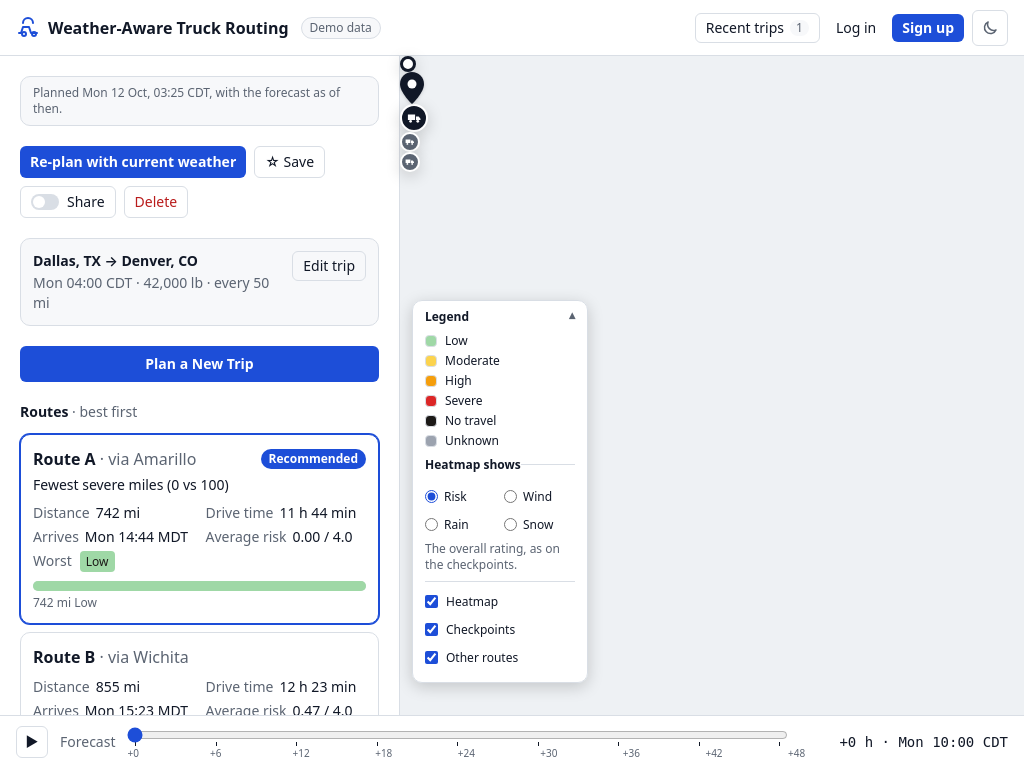
trip actions › deletes after asking, then takes a guest to {"user":null,"guest":true,"recent_trip_count":1}
The width and height of the screenshot is (1024, 768).
Click the button "Delete". click: (156, 202)
box: 124,186 -> 188,218
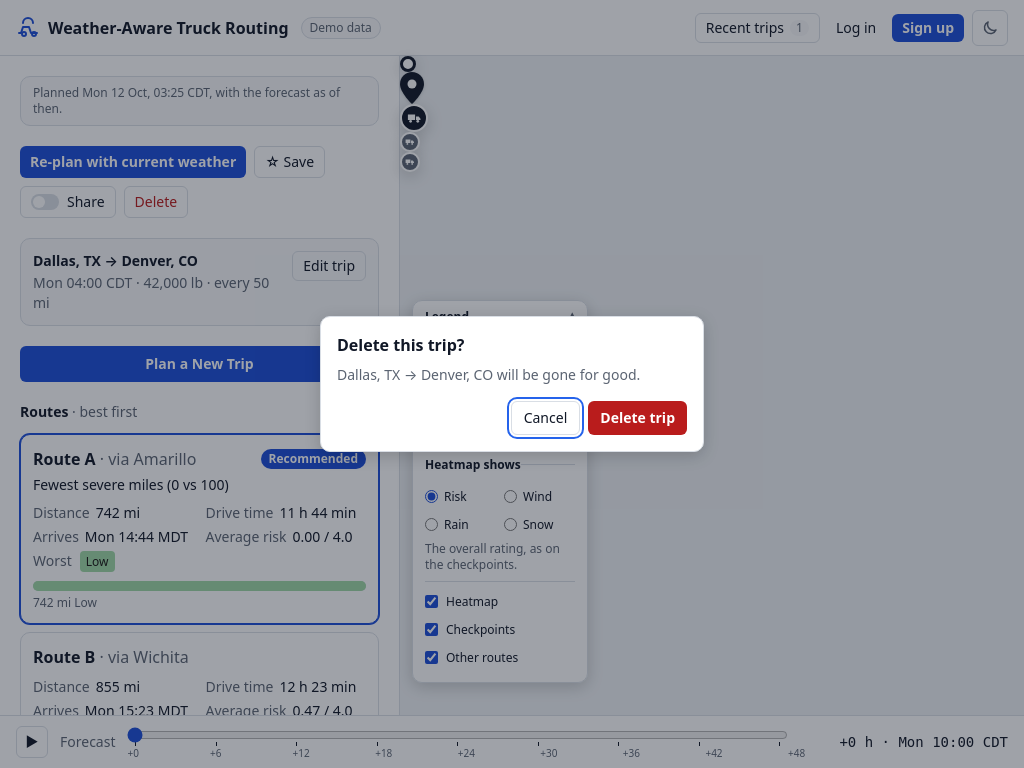
Click the button "Delete trip". click: (638, 418)
box: 588,401 -> 687,435
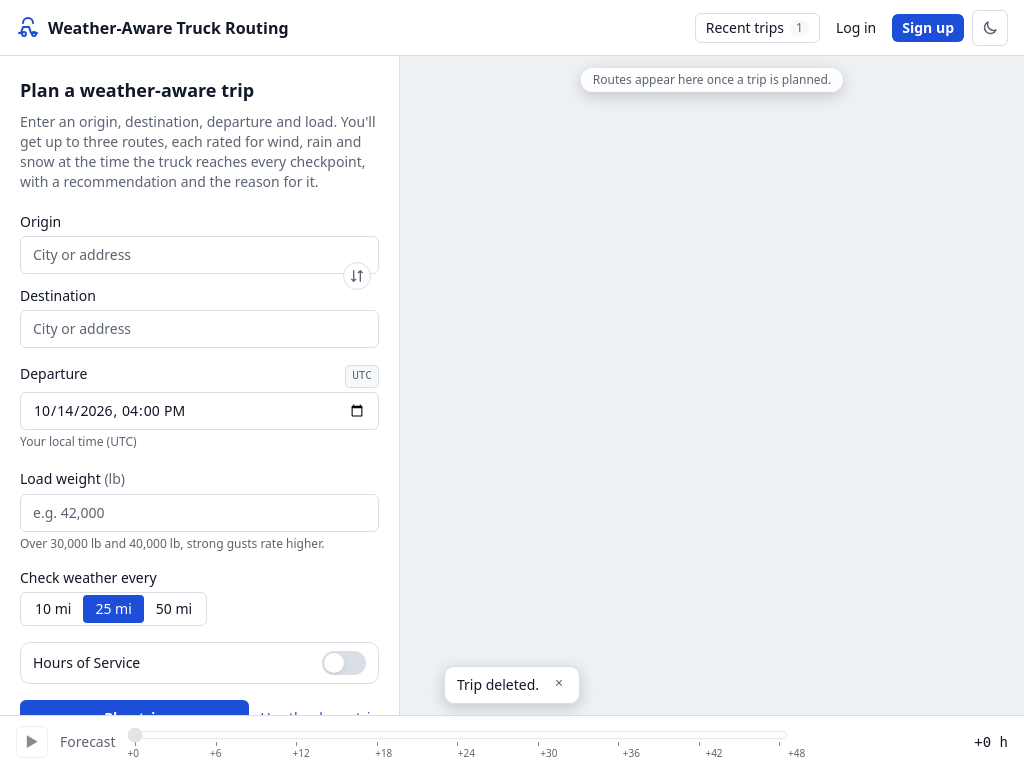
expect the heading "Plan a weather-aware trip" is shown: met, box 20,78 -> 254,102
